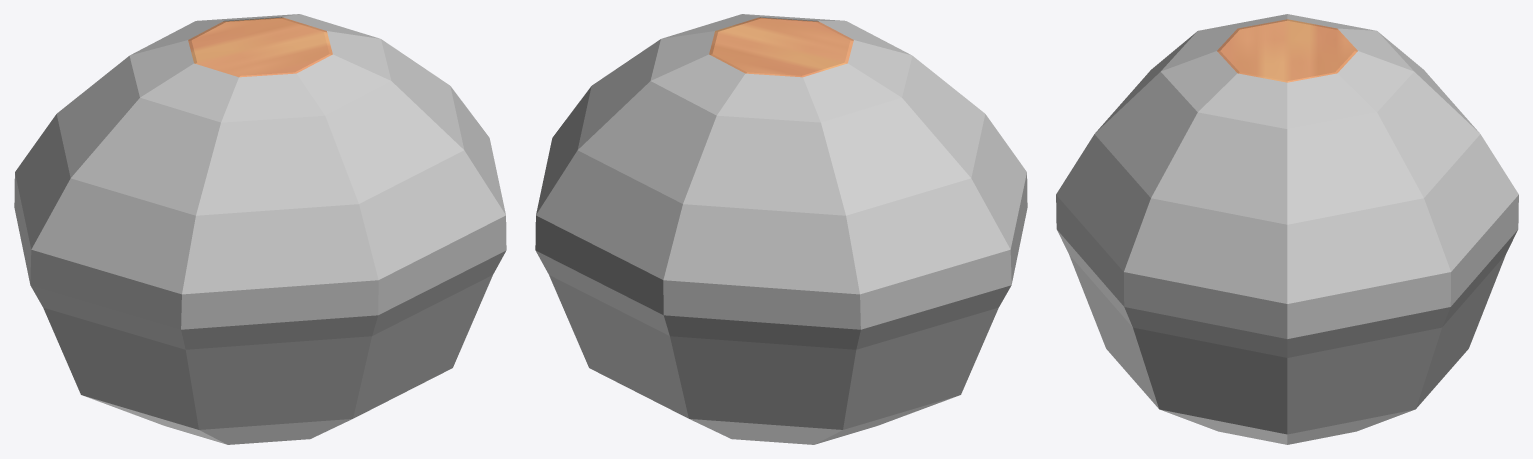
Rendered from cutout.obj.
The picture shows the model from 3 angles, left to right: view 1: azimuth 30°, elevation 25°; view 2: azimuth 150°, elevation 25°; view 3: azimuth 270°, elevation 25°; orthographic projection. The views are drawn at different scales.
Size of the model in its own units: 0.6142 by 0.4531 by 0.546.
